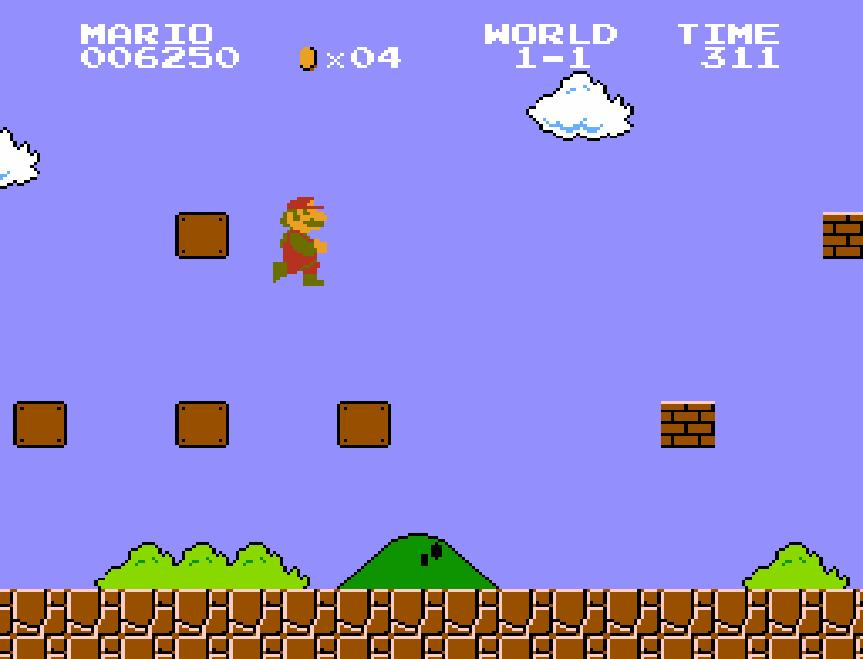big_mario: (270, 189, 328, 287)
